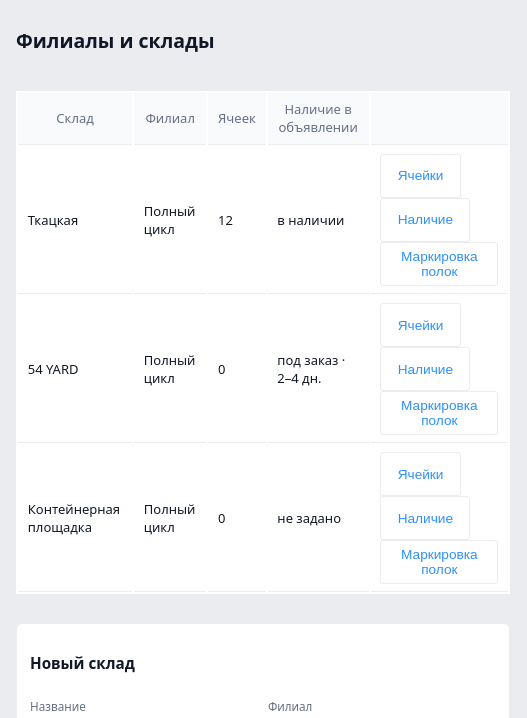
Test: наличие склада в объявлении › форма открывается тем, что у склада уже стоит
Expected: the text "Ткацкая" is shown, [18, 147, 132, 294]
Click the button with aria-label "Наличие: 54 YARD". click: {"x": 425, "y": 369}
box: [380, 347, 470, 391]
(page scrolled)
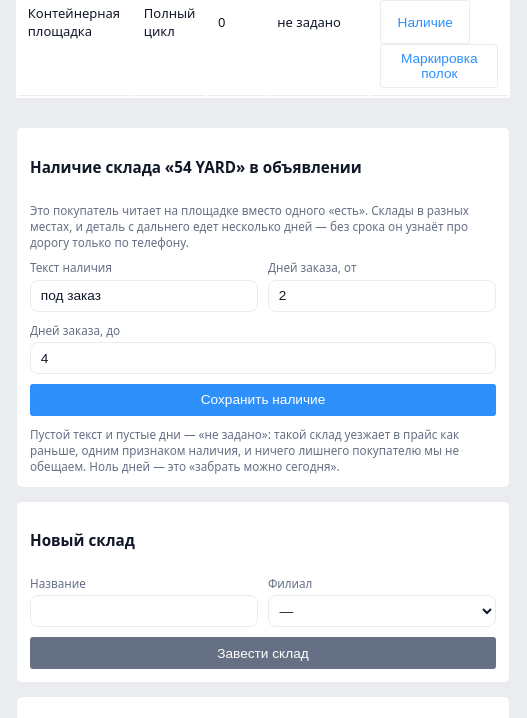
Result: the field labelled "Текст наличия" holds "под заказ" at [30, 280, 258, 312]
Result: the number field labelled "Дней заказа, от" holds "2" at [268, 280, 496, 312]
Result: the number field labelled "Дней заказа, до" holds "4" at [30, 342, 496, 374]
